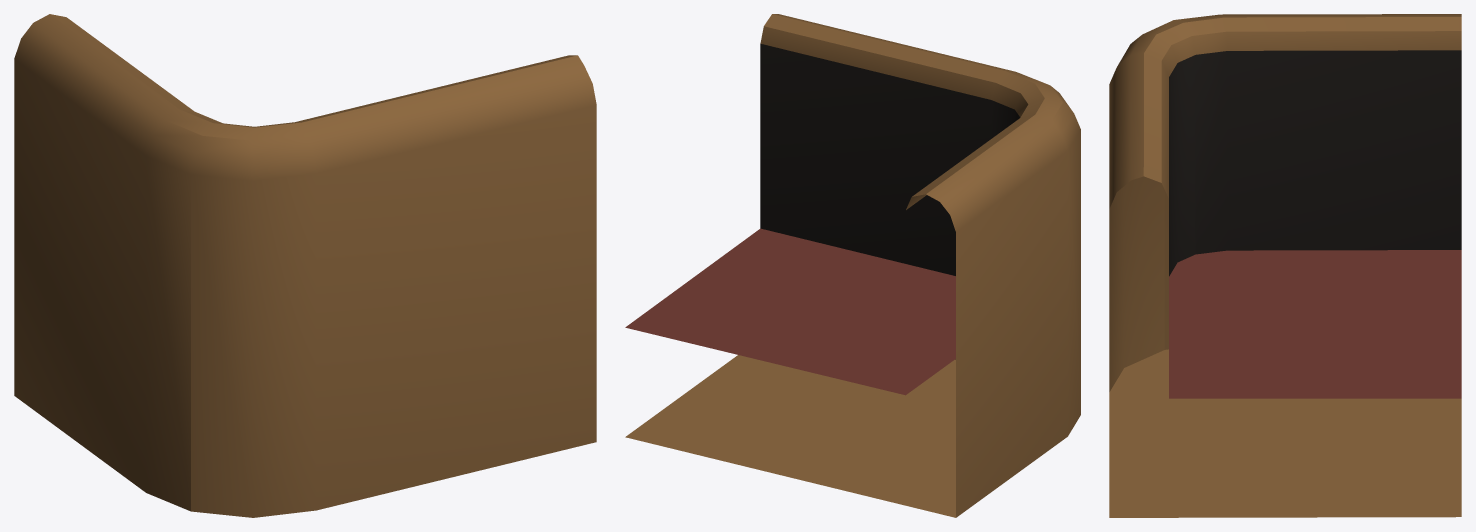
3 views of the same model, side by side, from view 1: azimuth 30°, elevation 25°; view 2: azimuth 150°, elevation 25°; view 3: azimuth 270°, elevation 25° (orthographic). The views are drawn at different scales.
Visible parts, largest first — view 1: box1; view 2: box1; view 3: box1.
Part boxes in pixels (x1,y1,x2,y2): box1: (14,14,596,517); box1: (625,14,1080,517); box1: (1109,14,1461,517).
Bounding box in the file's own units: 200 × 183 × 171.
